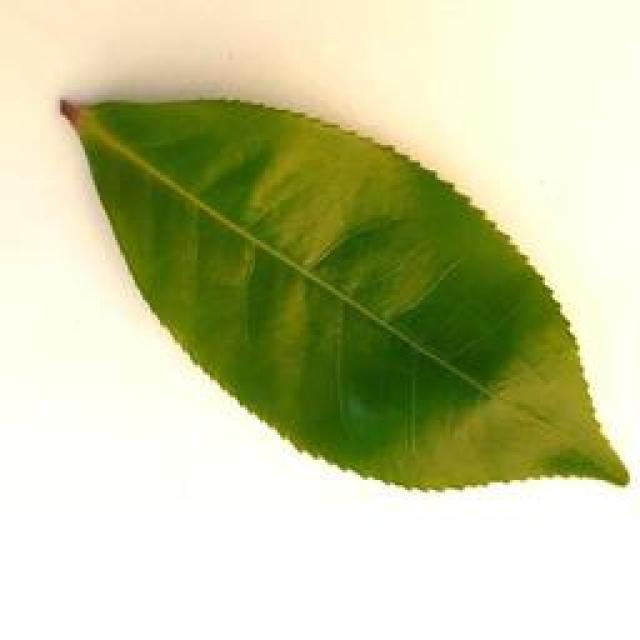Healthy: (58, 100, 632, 508)
